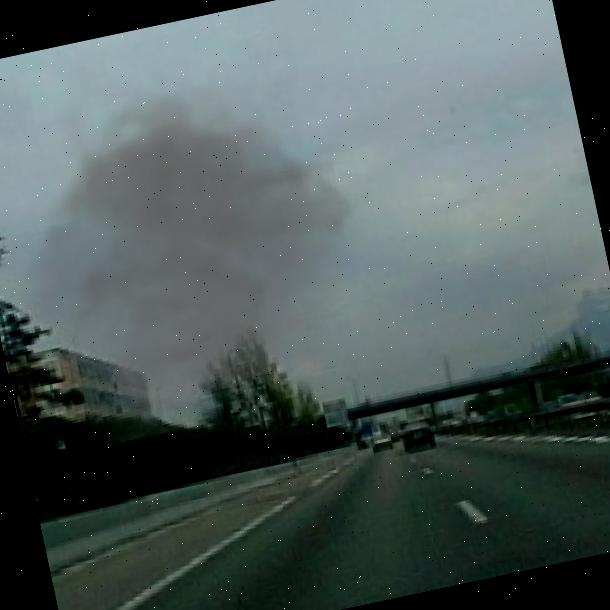smoke: (0, 14, 410, 460)
